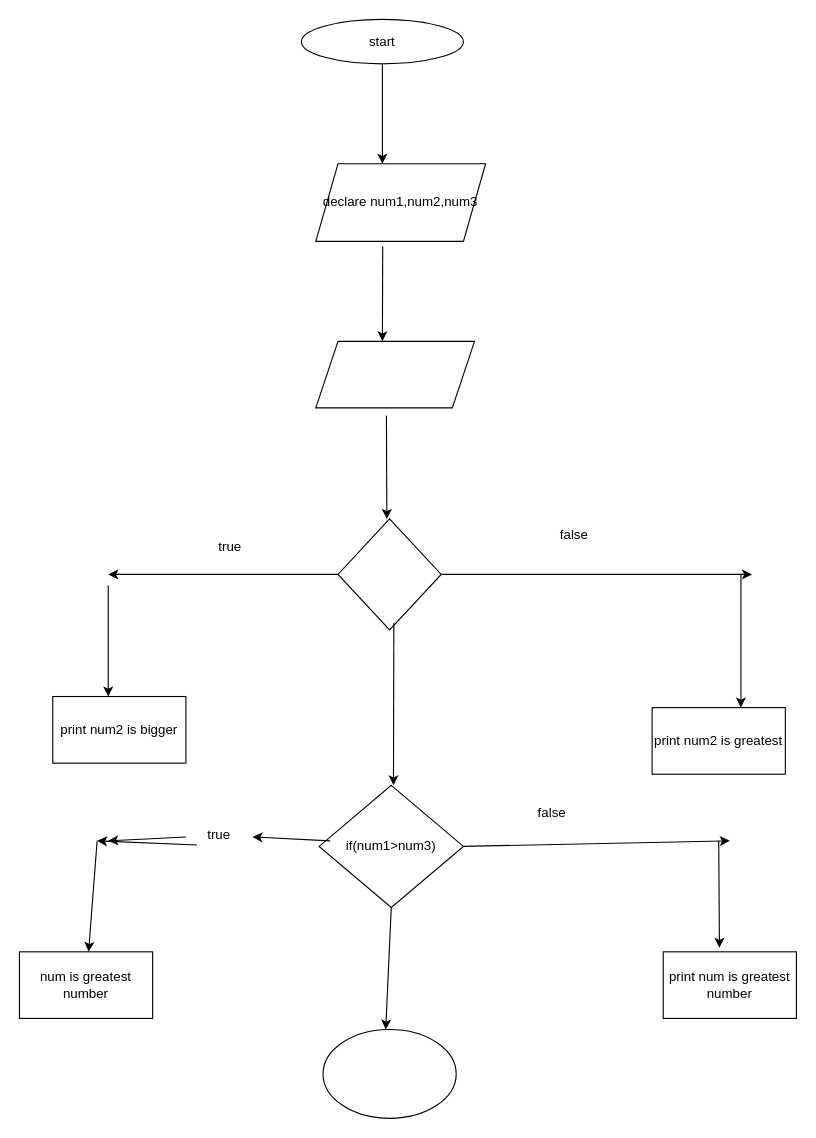
Some shapes in this 816 by 1138 pixel diagram are drawn without their labels. Here are the shapes that lost their labels. From the top down, the centre of each, then its label:
point 395,374: read the values of num1,num2,num3
point 389,574: if(num1>num2)
point 389,1073: stop
